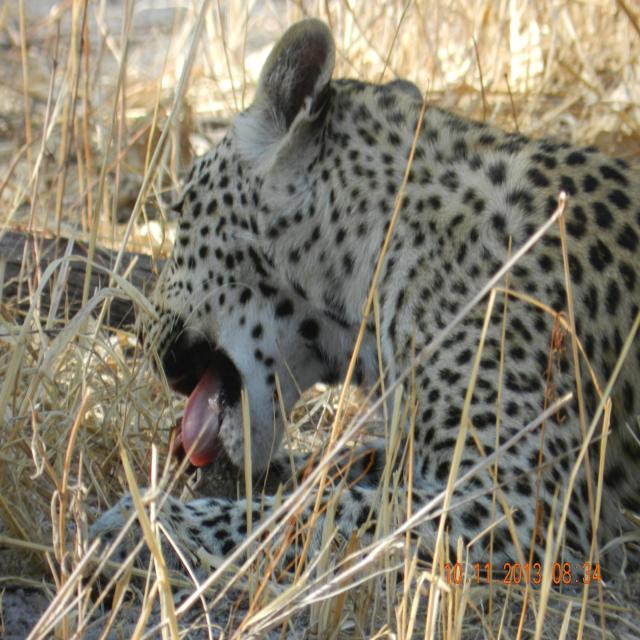Leopard: (18, 38, 640, 588)
